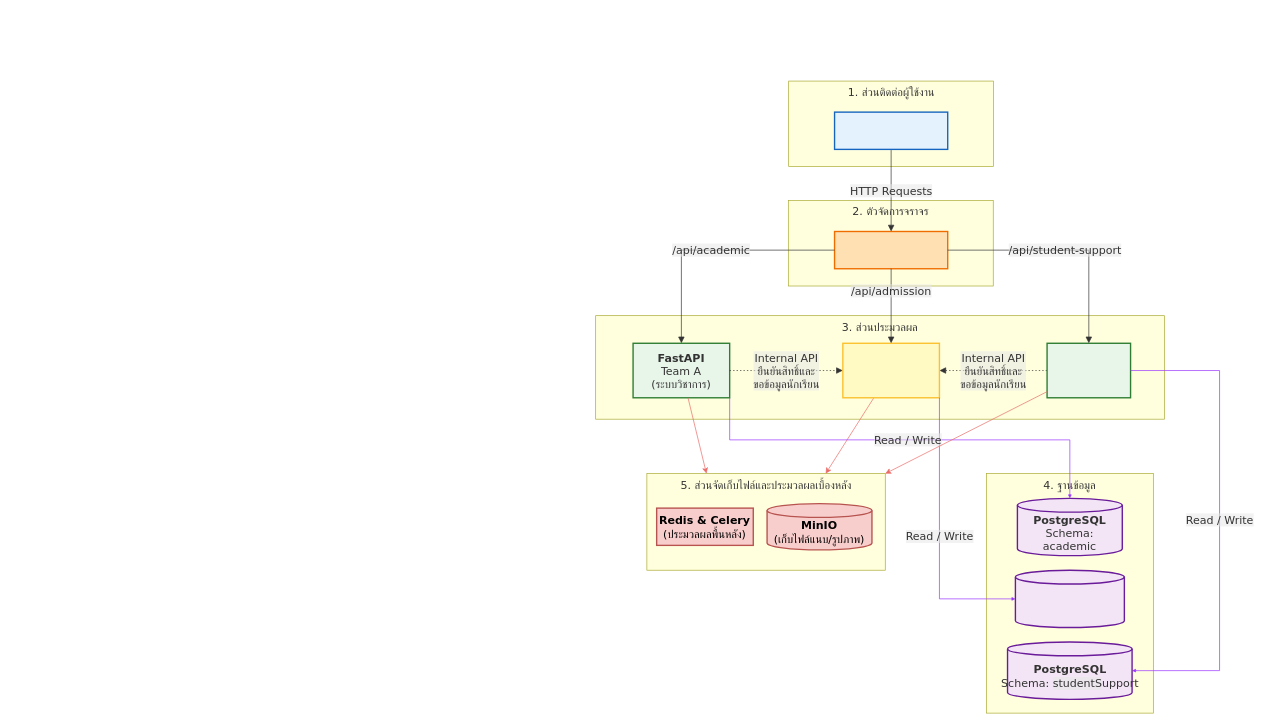
Image size: 1265x725. Some labels were removed from this diagram. Each missing label, with the centre of its shape:
FastAPI Team B (ระบบงานทะเบียน): the point at 891,370
FastAPI Team C (ระบบงานแนะแนว): the point at 1088,370
Nginx (Load balancer): the point at 891,249
PostgreSQL Schema: admission: the point at 1069,598
Unified Web Portal Next.js: the point at 891,130
